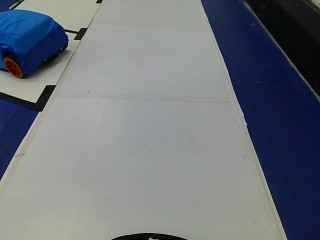car: (0, 3, 67, 79)
